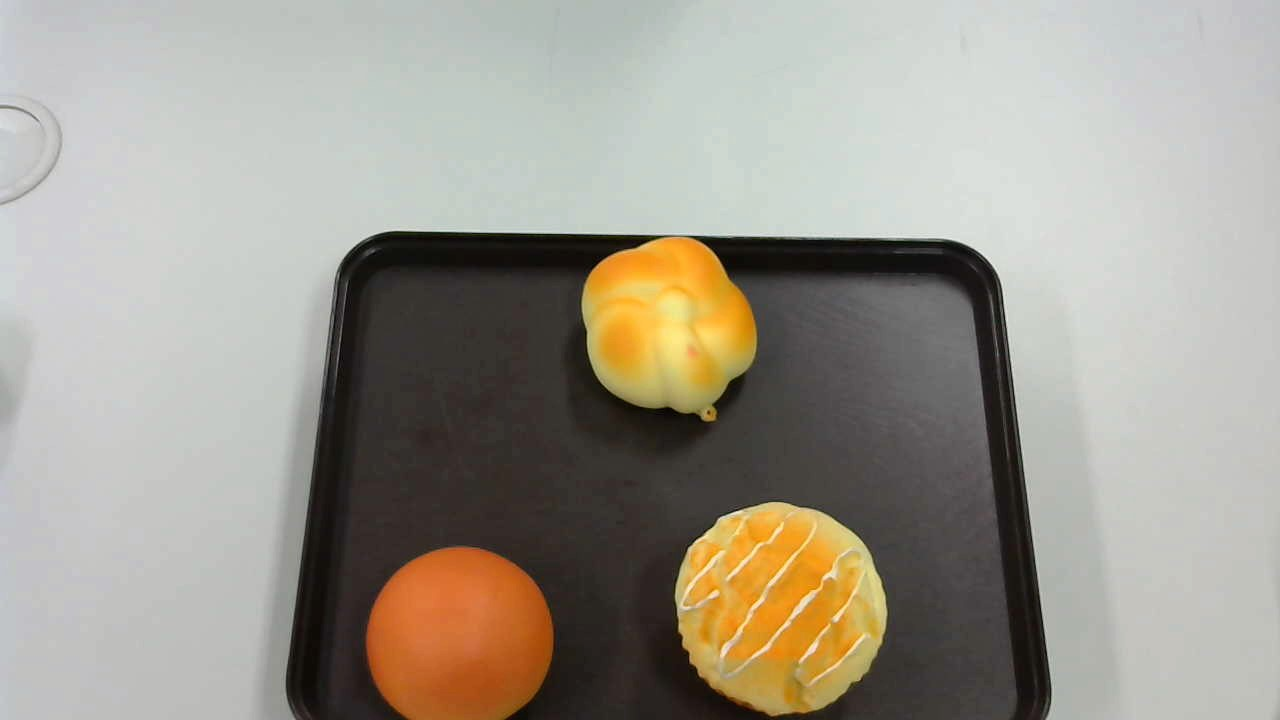bun: (365, 547, 556, 720)
cupcake: (672, 502, 888, 715)
twist bread: (581, 235, 758, 424)
